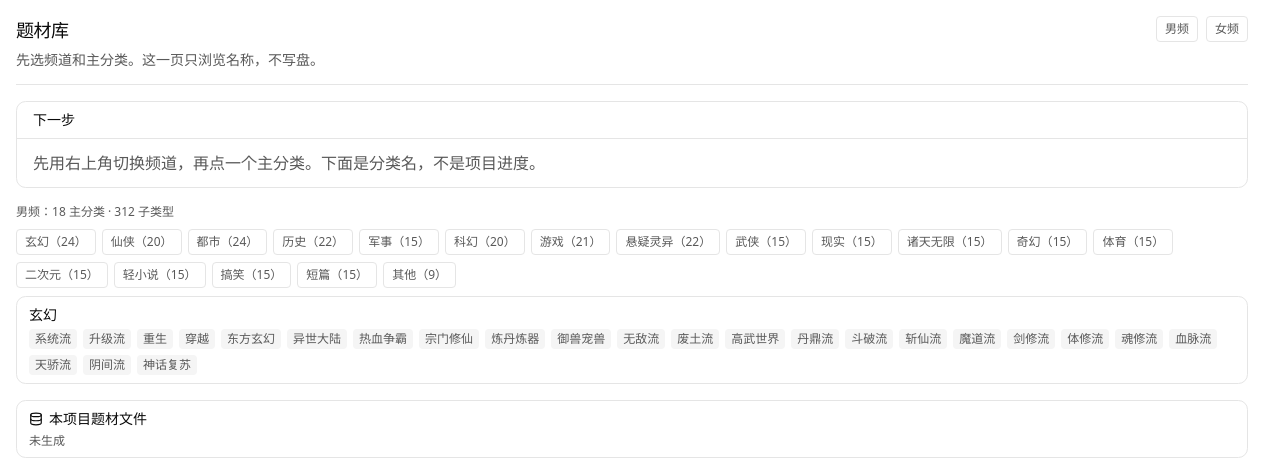
Test: GenreLibraryView › 男女频切换 → 主分类与子类型随频道更换
expect the element with test id "genre-empty" is shown: met, box x1=29 y1=431 x2=386 y2=449
expect the button with test id "genre-main-xuanhuan" is shown: met, box x1=16 y1=229 x2=96 y2=255
Click the button with test id "genre-channel-female" at (1227, 29), box x1=1206 y1=16 x2=1248 y2=42
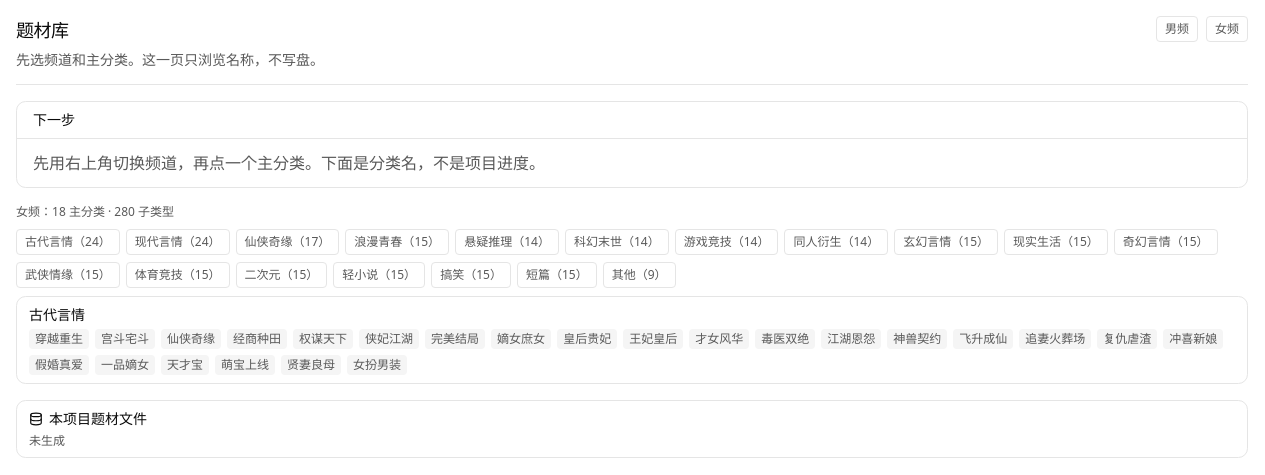
expect the button with test id "genre-main-gudaiyanqing" shows "古代言情": met, box x1=16 y1=229 x2=120 y2=255
expect the button with test id "genre-main-xuanhuan" is gone: met
expect the list item with test id "genre-sub-gudai_chuanyue" reads "穿越重生": met, box x1=35 y1=330 x2=83 y2=347
Click the button with test id "genre-channel-male" at (1177, 29), box x1=1156 y1=16 x2=1198 y2=42
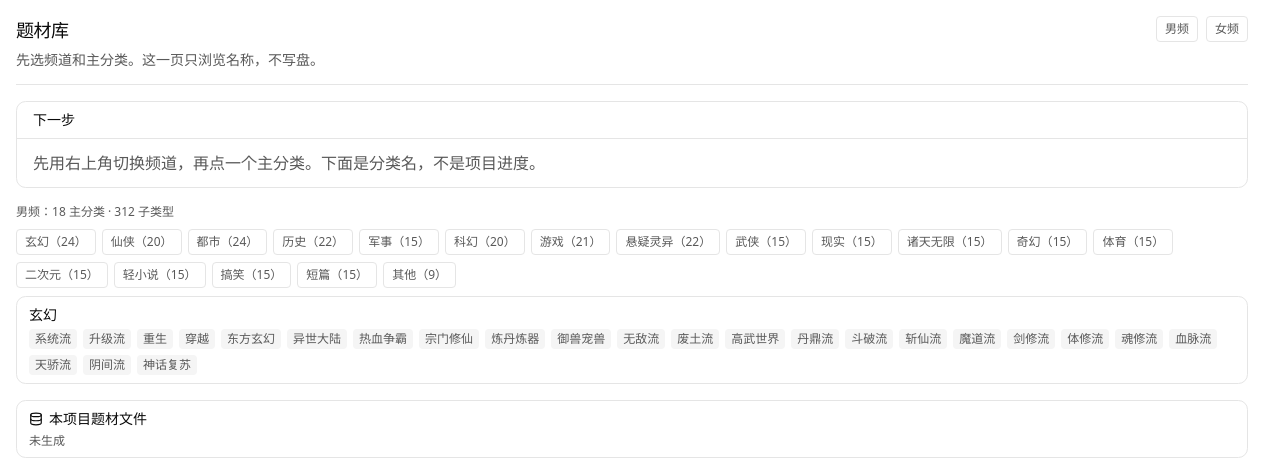
expect the button with test id "genre-main-xuanhuan" is shown: met, box x1=16 y1=229 x2=96 y2=255
expect the button with test id "genre-main-gudaiyanqing" is gone: met
